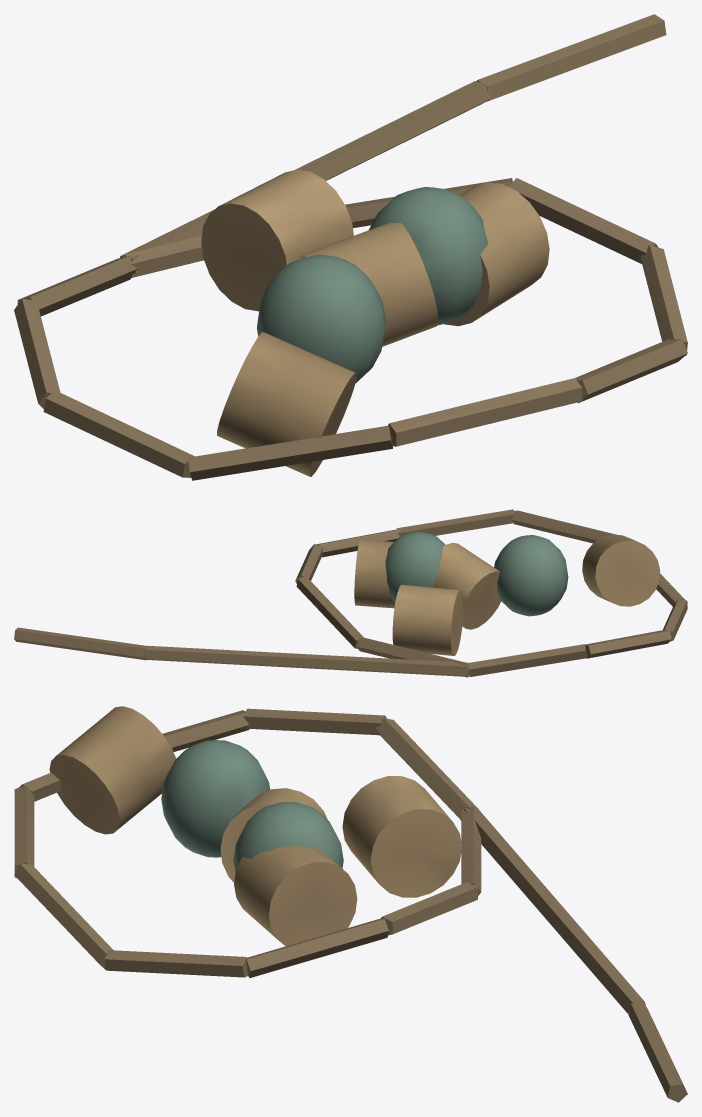
The model's file is float_bundle_b.glb.
3 renders of one model, top to bottom at view 1: azimuth 30°, elevation 25°; view 2: azimuth 150°, elevation 25°; view 3: azimuth 270°, elevation 25°, orthographic. The views are drawn at different scales.
Visible parts, largest first — view 1: Surface; view 2: Surface; view 3: Surface.
Part boxes in pixels (bbox=[...]): Surface: bbox=[14, 14, 687, 480]; Surface: bbox=[14, 509, 687, 677]; Surface: bbox=[14, 706, 687, 1102].
Size of the model in its own units: 2.18 by 0.336 by 1.72.
